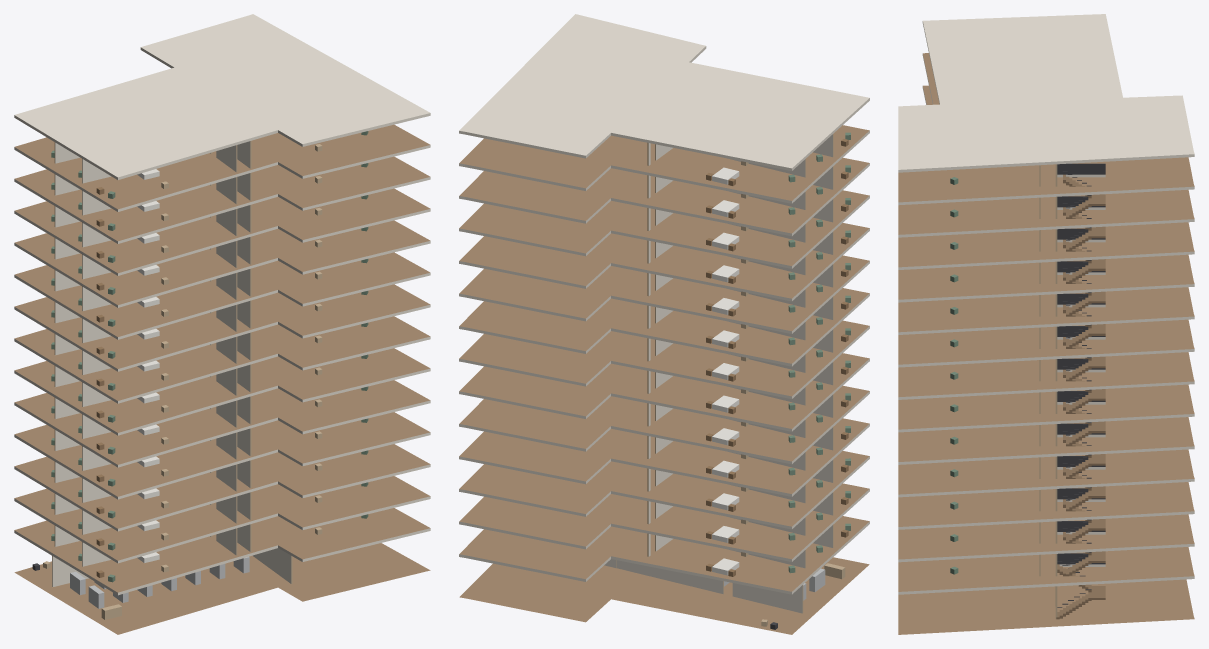
Rendered from interior.glb.
3 views of the same model, side by side, from view 1: azimuth 30°, elevation 25°; view 2: azimuth 150°, elevation 25°; view 3: azimuth 270°, elevation 25° (orthographic).
Visible parts, largest first — view 1: slabs, partitions, coarse-s0; view 2: slabs, partitions, coarse-s0, coarse-s3, coarse-s10, coarse-s8, coarse-s1, coarse-s6, coarse-s13, coarse-s2, coarse-s4, coarse-s7 (+4 smaller); view 3: slabs, stair, partitions.
Part boxes in pixels (bbox=[...]): slabs: bbox=[14, 14, 430, 634]; partitions: bbox=[52, 141, 292, 586]; coarse-s0: bbox=[32, 556, 249, 619]; slabs: bbox=[459, 14, 869, 634]; partitions: bbox=[604, 134, 833, 613]; coarse-s0: bbox=[724, 563, 845, 629]; coarse-s3: bbox=[706, 458, 850, 511]; coarse-s10: bbox=[706, 230, 850, 283]; coarse-s8: bbox=[706, 295, 850, 348]; coarse-s1: bbox=[706, 523, 850, 576]; coarse-s6: bbox=[706, 360, 850, 413]; coarse-s13: bbox=[706, 132, 850, 185]; coarse-s2: bbox=[706, 491, 850, 544]; coarse-s4: bbox=[706, 426, 850, 479]; coarse-s7: bbox=[706, 328, 850, 381]; slabs: bbox=[898, 14, 1194, 634]; stair: bbox=[1056, 163, 1105, 619]; partitions: bbox=[1039, 164, 1057, 618].
Size of the model in its own units: 31.21 by 43.41 by 25.07.
